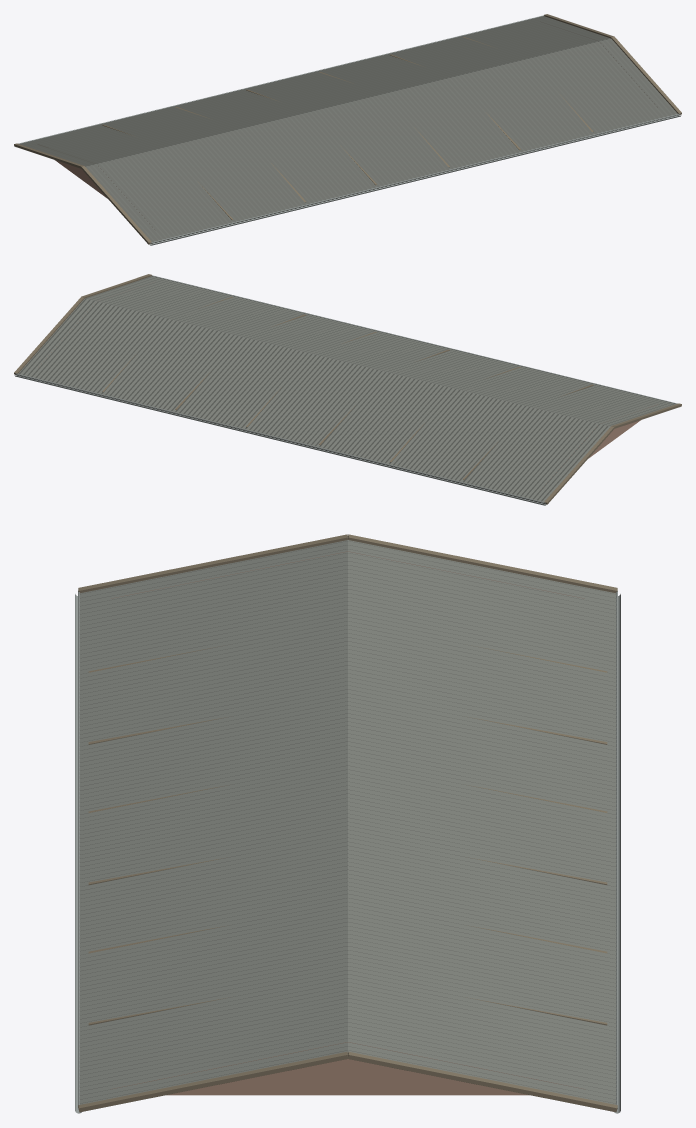
File: waiting_hall_roof.glb
The picture shows the model from 3 angles, top to bottom: view 1: azimuth 30°, elevation 25°; view 2: azimuth 150°, elevation 25°; view 3: azimuth 270°, elevation 25°; orthographic projection. The views are drawn at different scales.
Visible parts, largest first — view 1: waiting_hall_roof; view 2: waiting_hall_roof; view 3: waiting_hall_roof.
Boxes of the visible parts, box(x1,y1,x2,y2) form: waiting_hall_roof: box(14, 14, 681, 245); waiting_hall_roof: box(14, 274, 681, 505); waiting_hall_roof: box(75, 534, 620, 1113).
Bounding box in the file's own units: 23.34 × 1.31 × 10.35.
